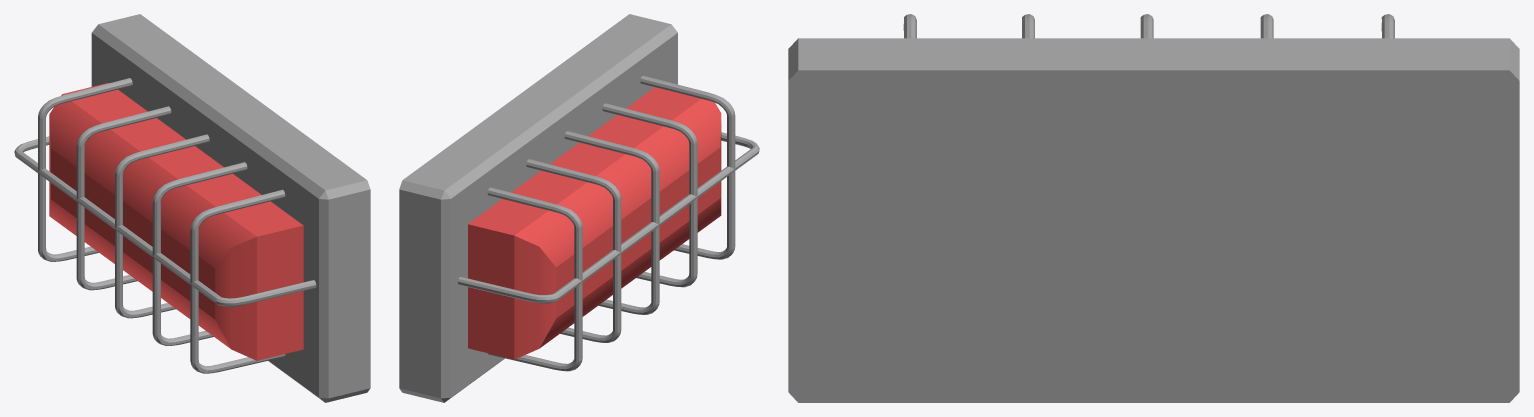
The model's file is Wall Light.fbx.
3 renders of one model, left to right at view 1: azimuth 30°, elevation 25°; view 2: azimuth 150°, elevation 25°; view 3: azimuth 270°, elevation 25°, orthographic. The views are drawn at different scales.
Parts seen in each view (by area): view 1: Light_Box, Tiny_Light_Bars; view 2: Light_Box, Tiny_Light_Bars; view 3: Light_Box, Tiny_Light_Bars.
Part boxes in pixels (x1,y1,x2,y2): Light_Box: (49, 14, 370, 402); Tiny_Light_Bars: (14, 78, 316, 373); Light_Box: (399, 14, 721, 402); Tiny_Light_Bars: (458, 75, 759, 371); Light_Box: (788, 38, 1519, 402); Tiny_Light_Bars: (903, 14, 1394, 38).
Bounding box in the file's own units: 0.2133 × 0.3075 × 0.6126.
